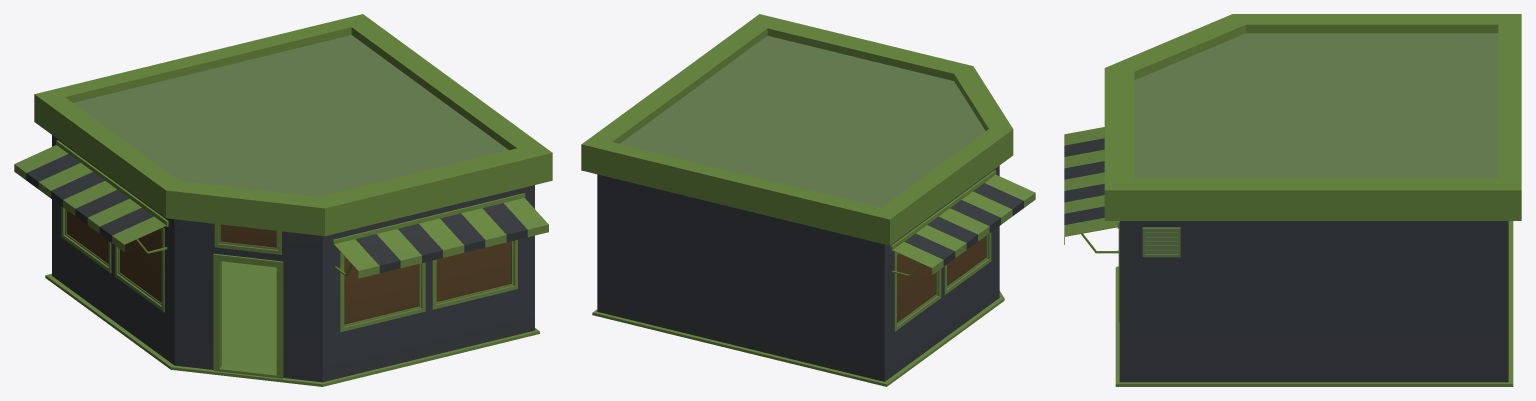
The model's file is SmallHouse_12.fbx.
3 renders of one model, left to right at view 1: azimuth 30°, elevation 25°; view 2: azimuth 150°, elevation 25°; view 3: azimuth 270°, elevation 25°, orthographic. The views are drawn at different scales.
Visible parts, largest first — view 1: SmallHouse_12; view 2: SmallHouse_12; view 3: SmallHouse_12.
Boxes of the visible parts, bbox=[...] form: SmallHouse_12: bbox=[14, 14, 552, 386]; SmallHouse_12: bbox=[581, 14, 1035, 386]; SmallHouse_12: bbox=[1064, 14, 1521, 386].
Bounding box in the file's own units: 7.08 × 3.42 × 7.06.
